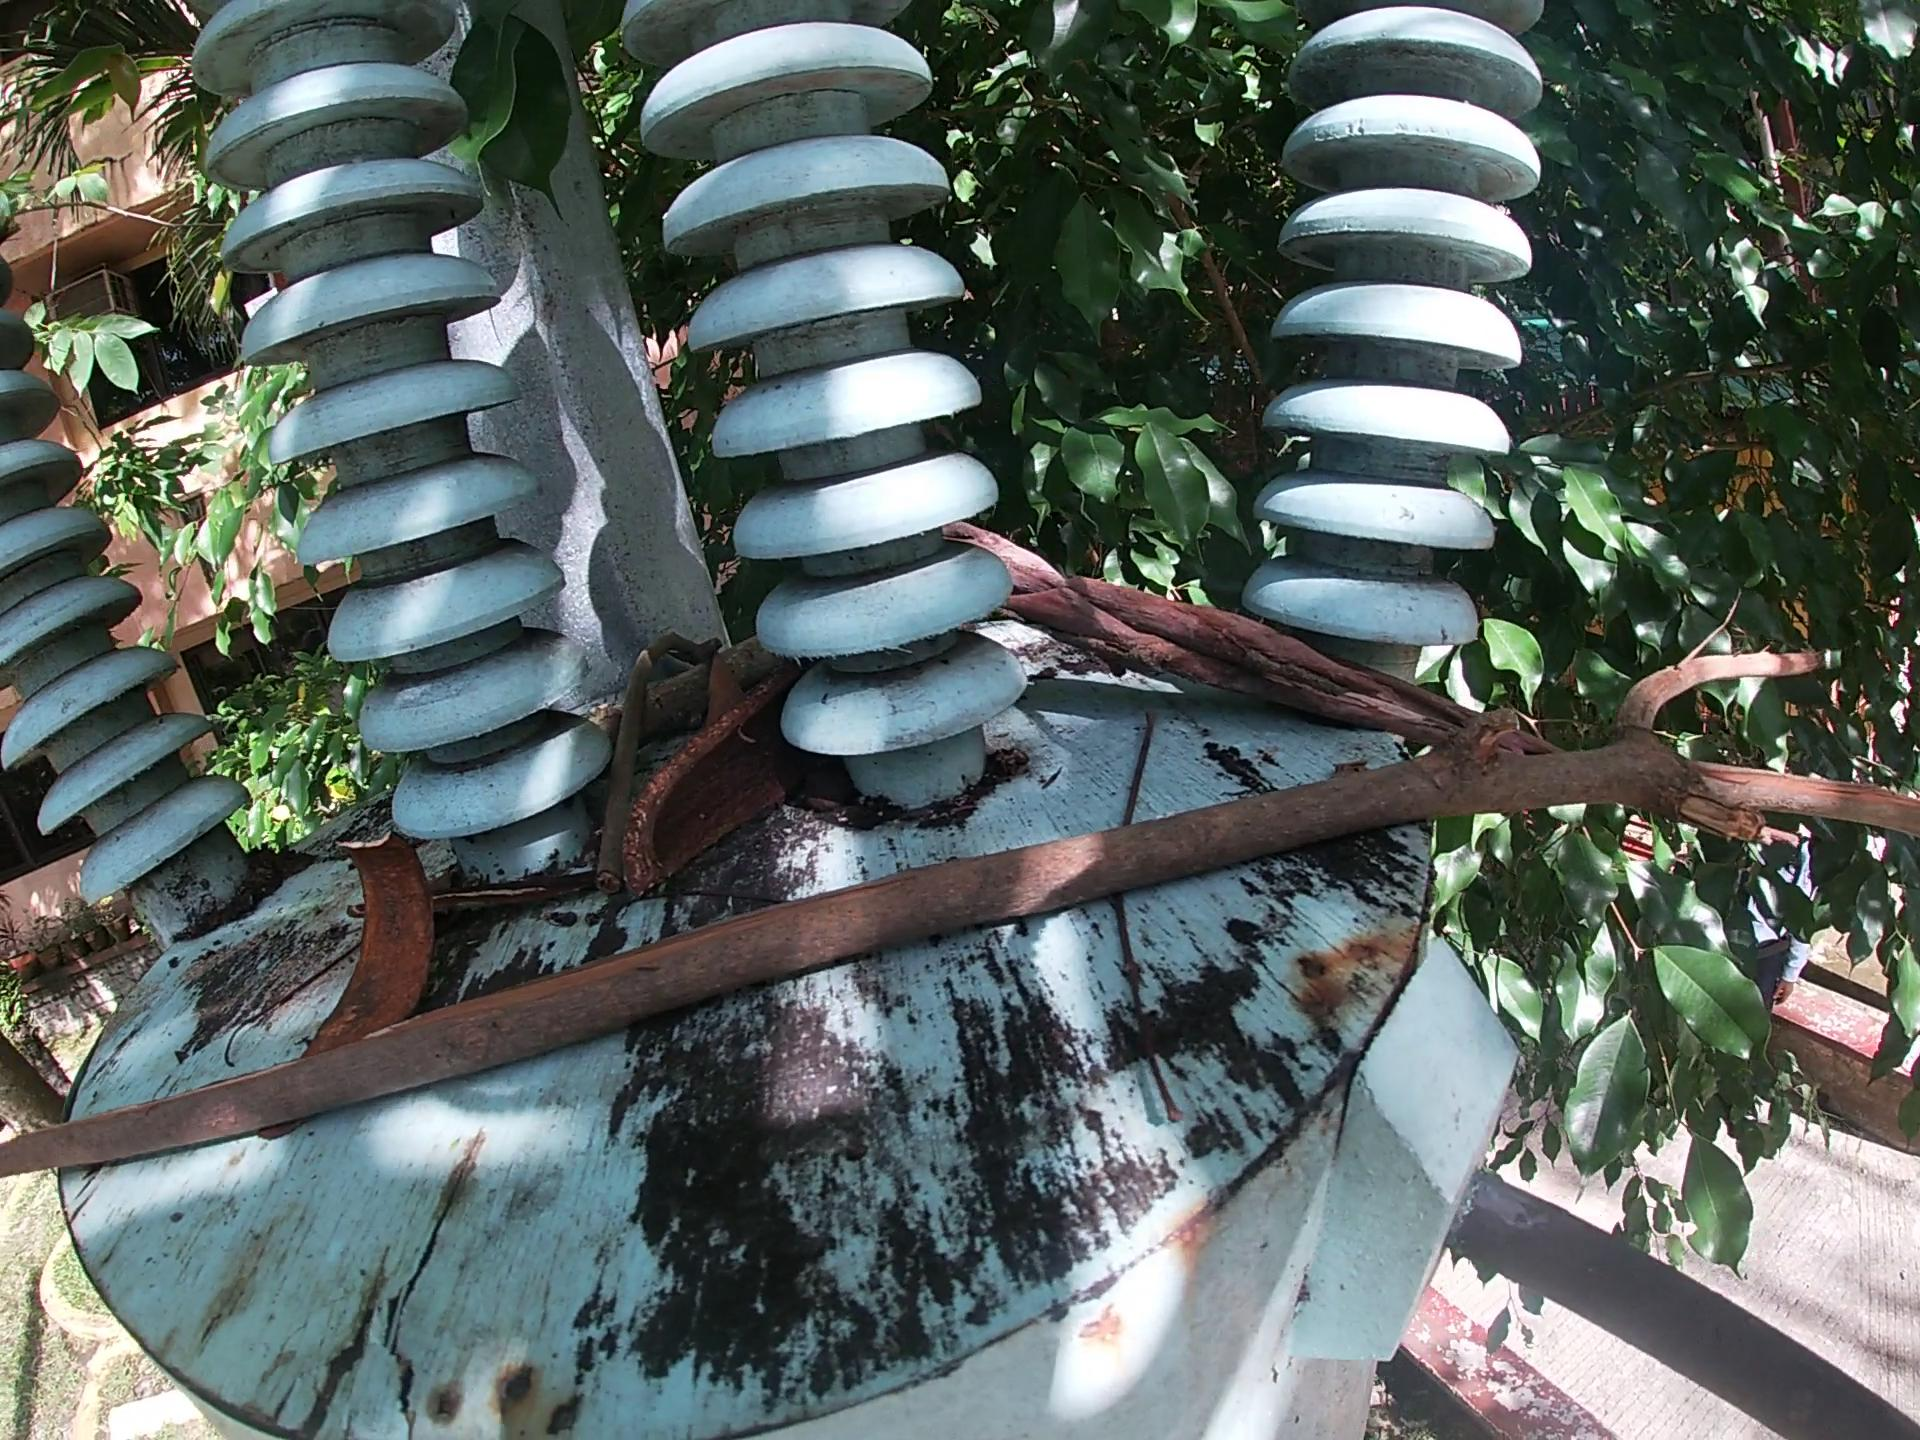leaf: (683, 646, 742, 731)
mahogany fruit: (635, 693, 794, 932), (298, 820, 434, 1059)
tree branch: (5, 653, 1912, 1230), (951, 517, 1471, 743), (593, 635, 718, 900), (1092, 895, 1205, 1178), (591, 647, 760, 761), (218, 939, 355, 1059), (1102, 693, 1163, 830), (437, 883, 579, 911)
